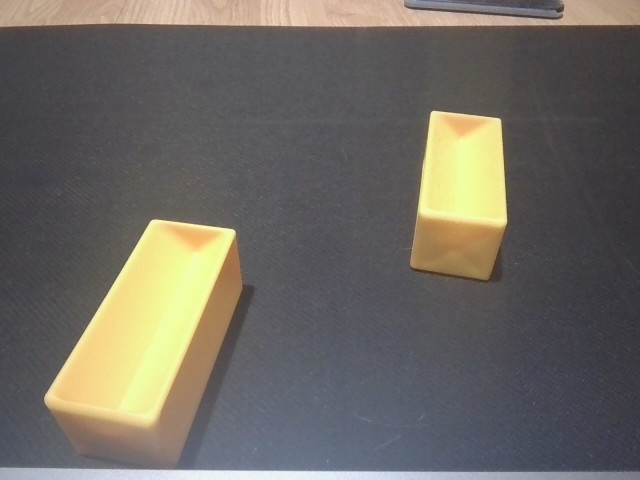YellowSample: (37, 214, 248, 470), (405, 108, 512, 284)
